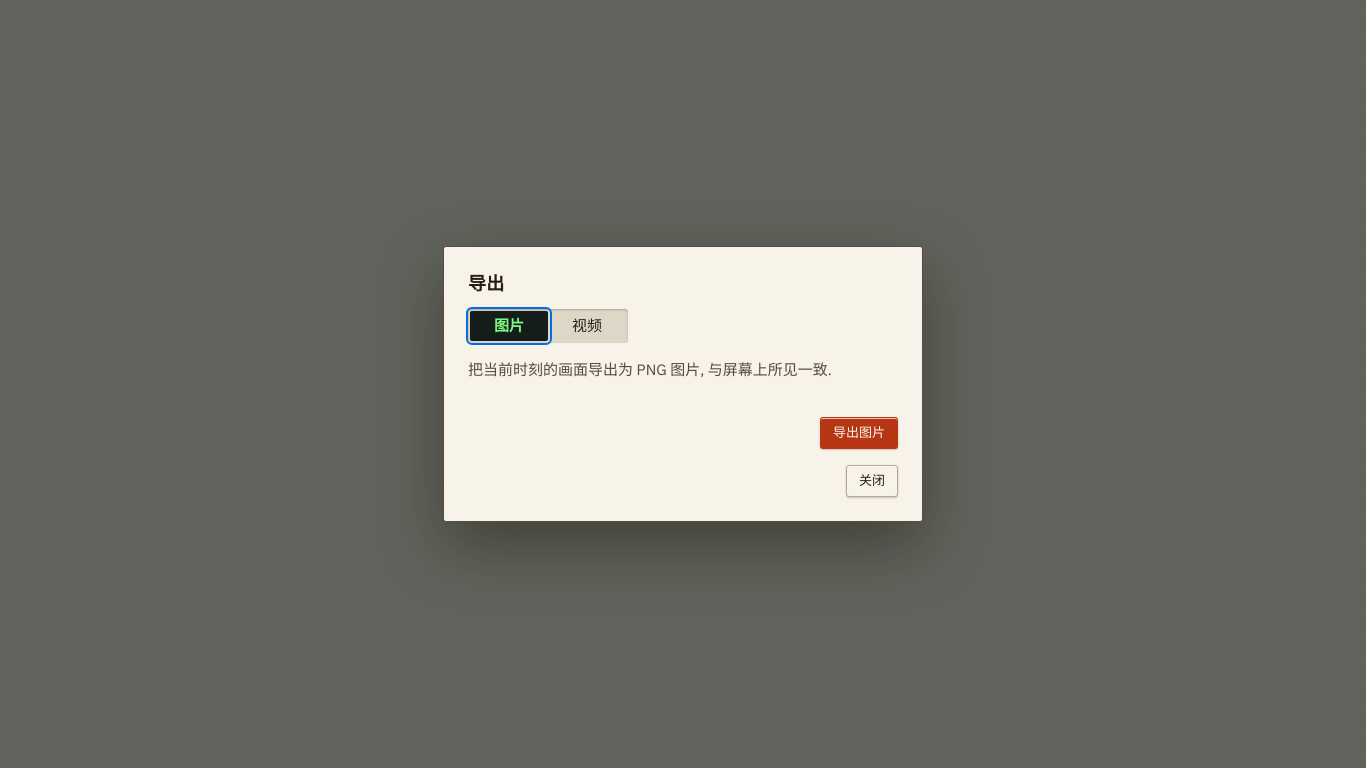
Scenario: ExportDialog › defaults to the interval that yields a ten second video at the current speed
Click the tab "视频" at (587, 326), box left=548, top=311, right=626, bottom=341
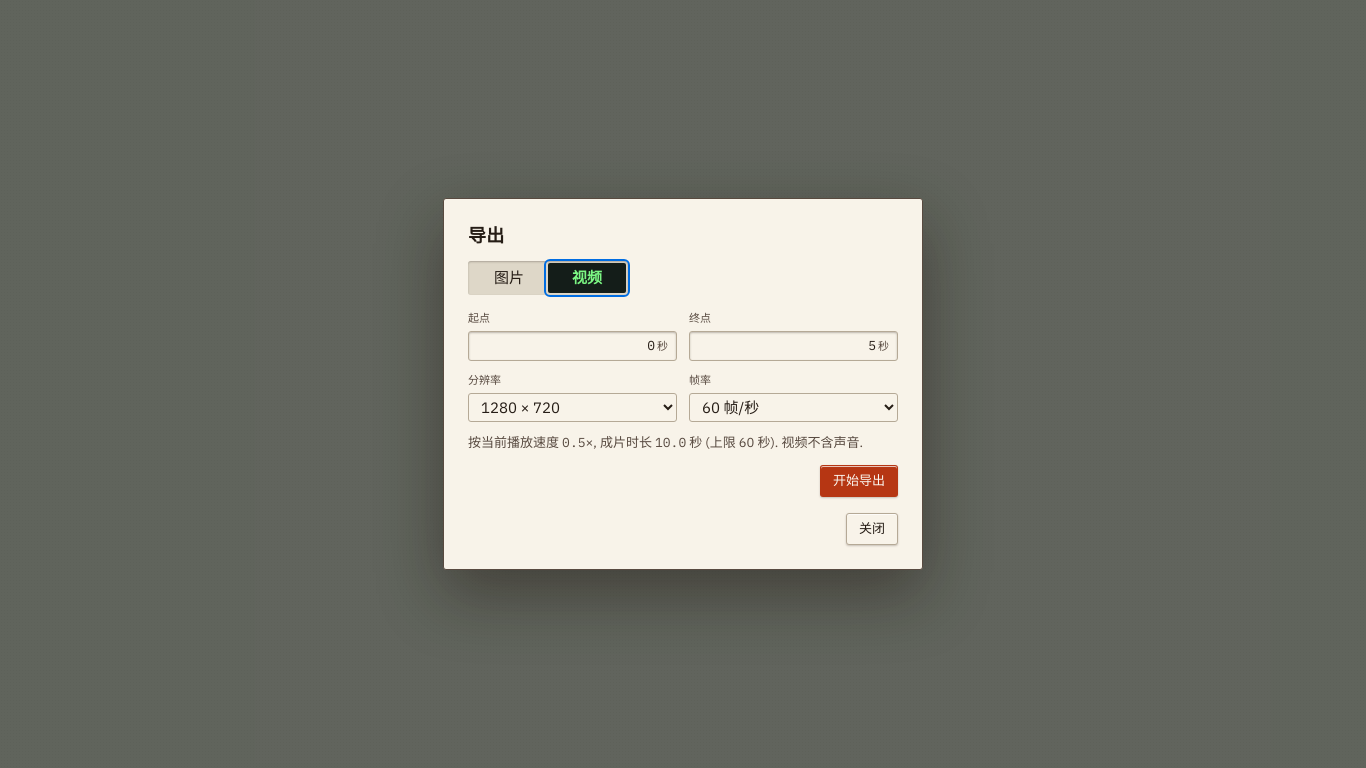
Check: the panel is shown, box left=468, top=311, right=898, bottom=497
Check: the field labelled "终点" holds "5", box left=698, top=334, right=876, bottom=358
Check: the text "按当前播放速度 0.5×, 成片时长 10.0 秒 (上限 60 秒). 视频不含声音." is shown, box left=468, top=434, right=898, bottom=453
